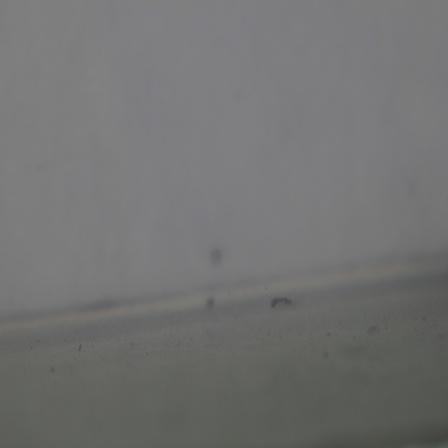Jentik-Nyamuk: (266, 289, 296, 312)
